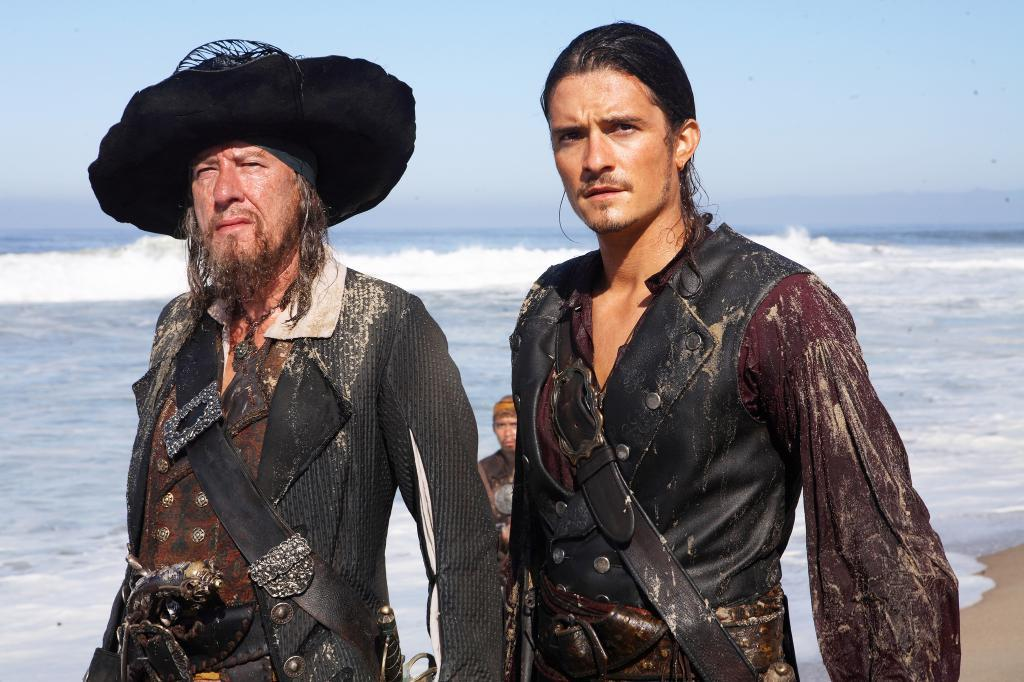Hat: (84, 34, 414, 224)
